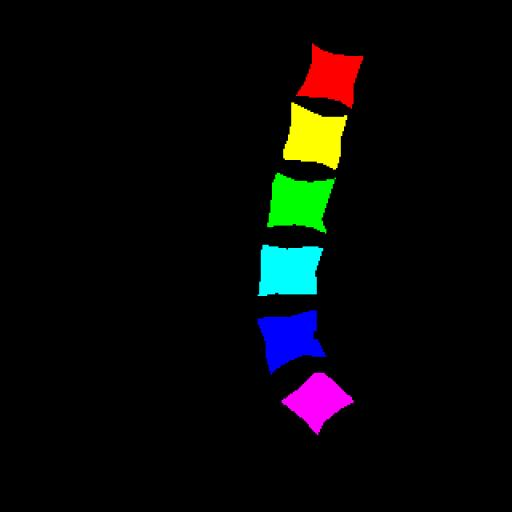L1: (297, 44, 363, 108)
L2: (283, 102, 347, 170)
L3: (267, 173, 335, 232)
L4: (258, 245, 323, 296)
L5: (258, 310, 325, 374)
S1: (282, 373, 354, 434)
